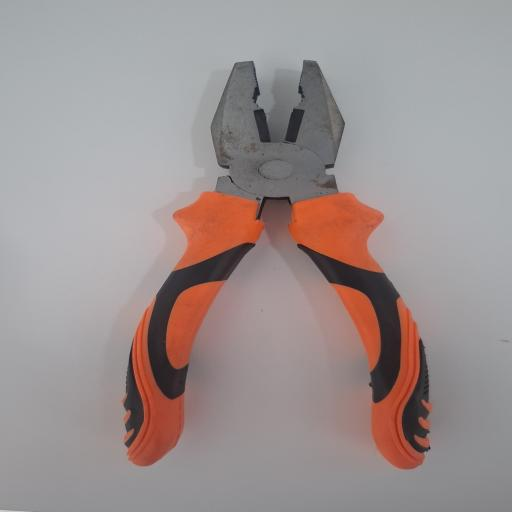alicate: (118, 60, 436, 468)
